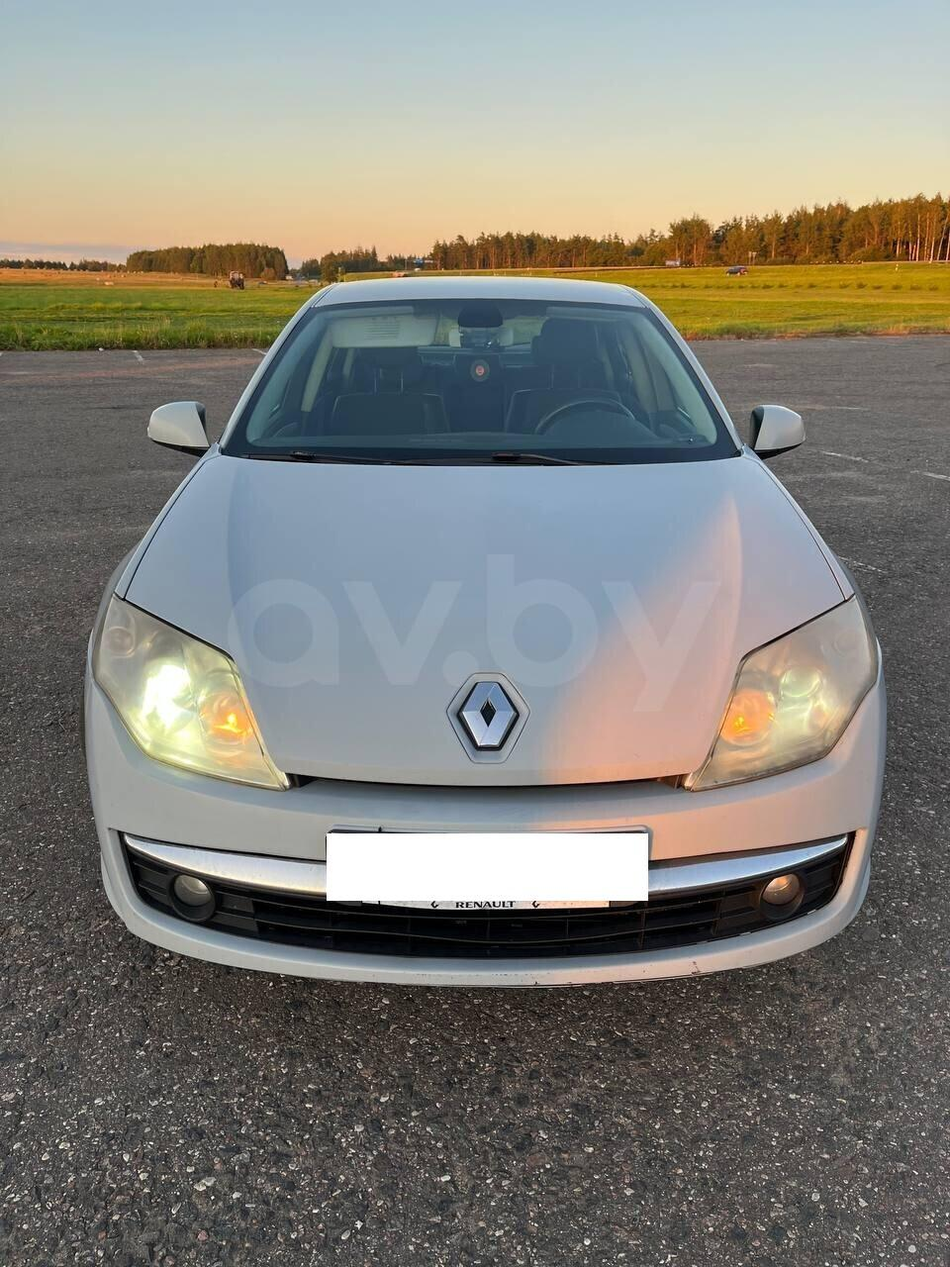Laguna_2007-2011: (83, 278, 885, 986)
